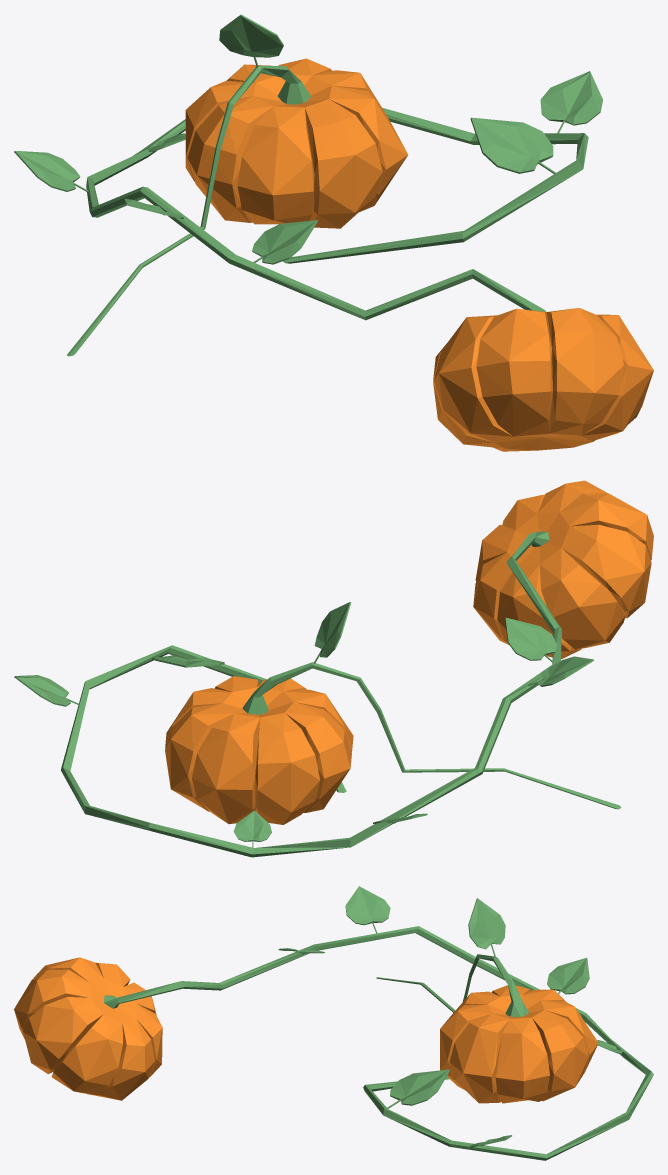
The model's file is pumpkin.glb.
3 renders of one model, top to bottom at view 1: azimuth 30°, elevation 25°; view 2: azimuth 150°, elevation 25°; view 3: azimuth 270°, elevation 25°, orthographic. The views are drawn at different scales.
Visible parts, largest first — view 1: pumpkin; view 2: pumpkin; view 3: pumpkin.
Boxes of the visible parts, left/top/right/bottom form: pumpkin: left=14, top=14, right=653, bottom=451; pumpkin: left=14, top=480, right=653, bottom=857; pumpkin: left=14, top=886, right=653, bottom=1160.
Bounding box in the file's own units: 1.86 × 0.7346 × 2.38.
Materials: 1 (1 with a texture image).
